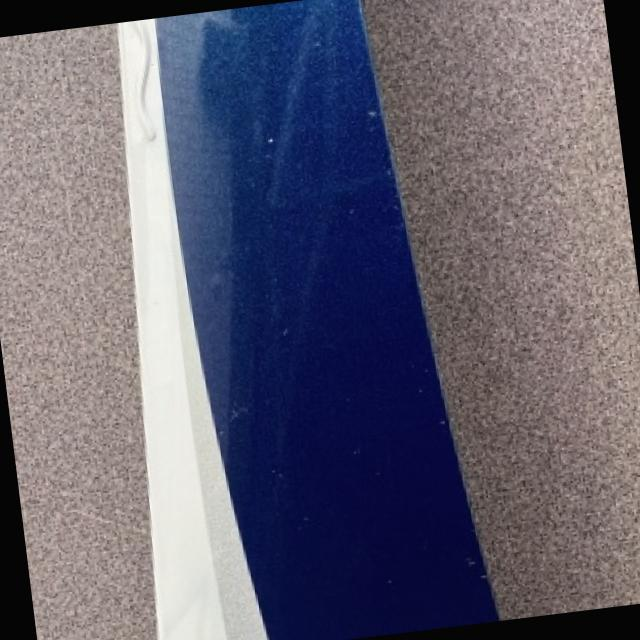healthy: (122, 0, 498, 640)
